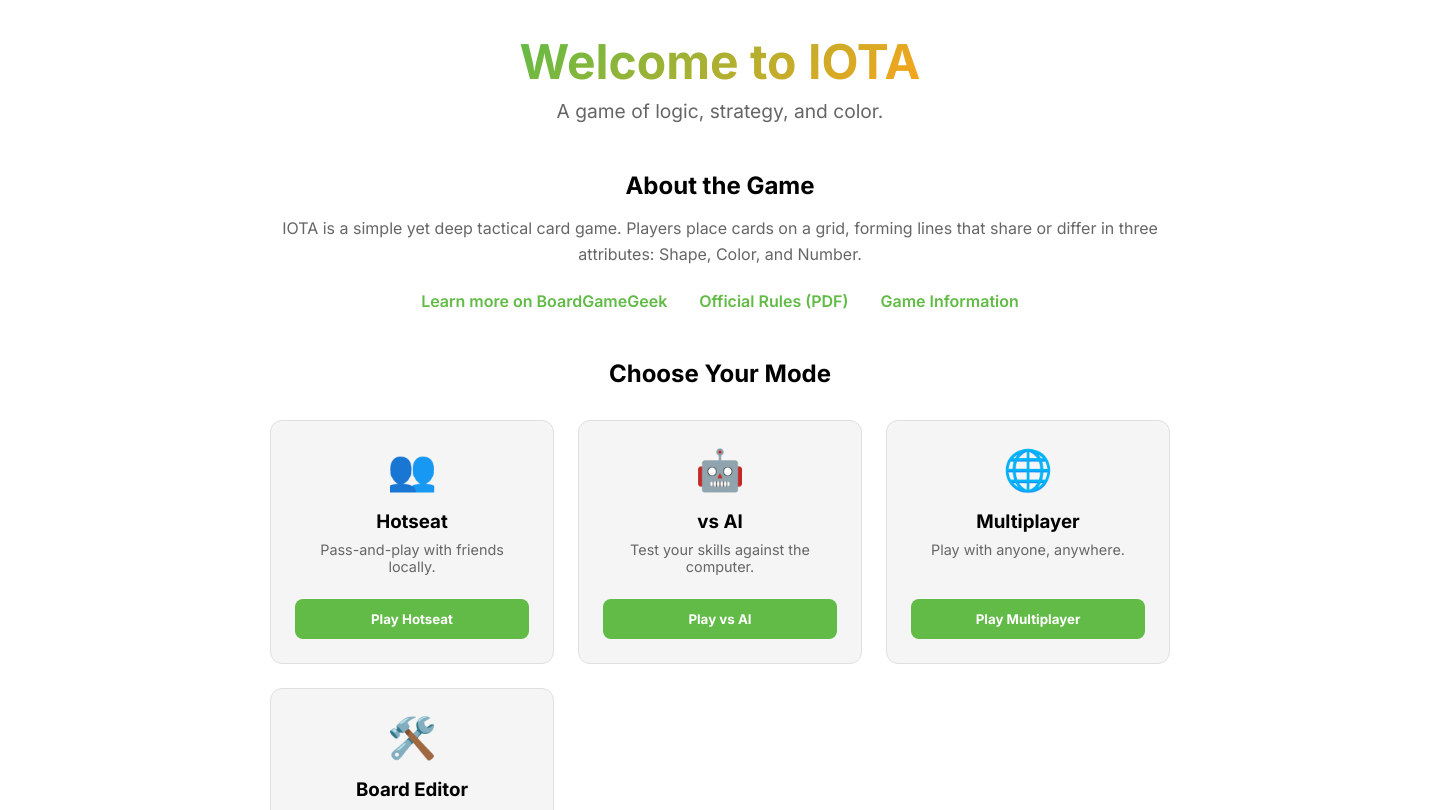
App integration - selection › selects a card after starting a game and clicking a card in hand
On Welcome page, click "Play Hotseat"
Click the button "Play Hotseat" at (412, 619), box top-left (295, 599), bottom-right (529, 639)
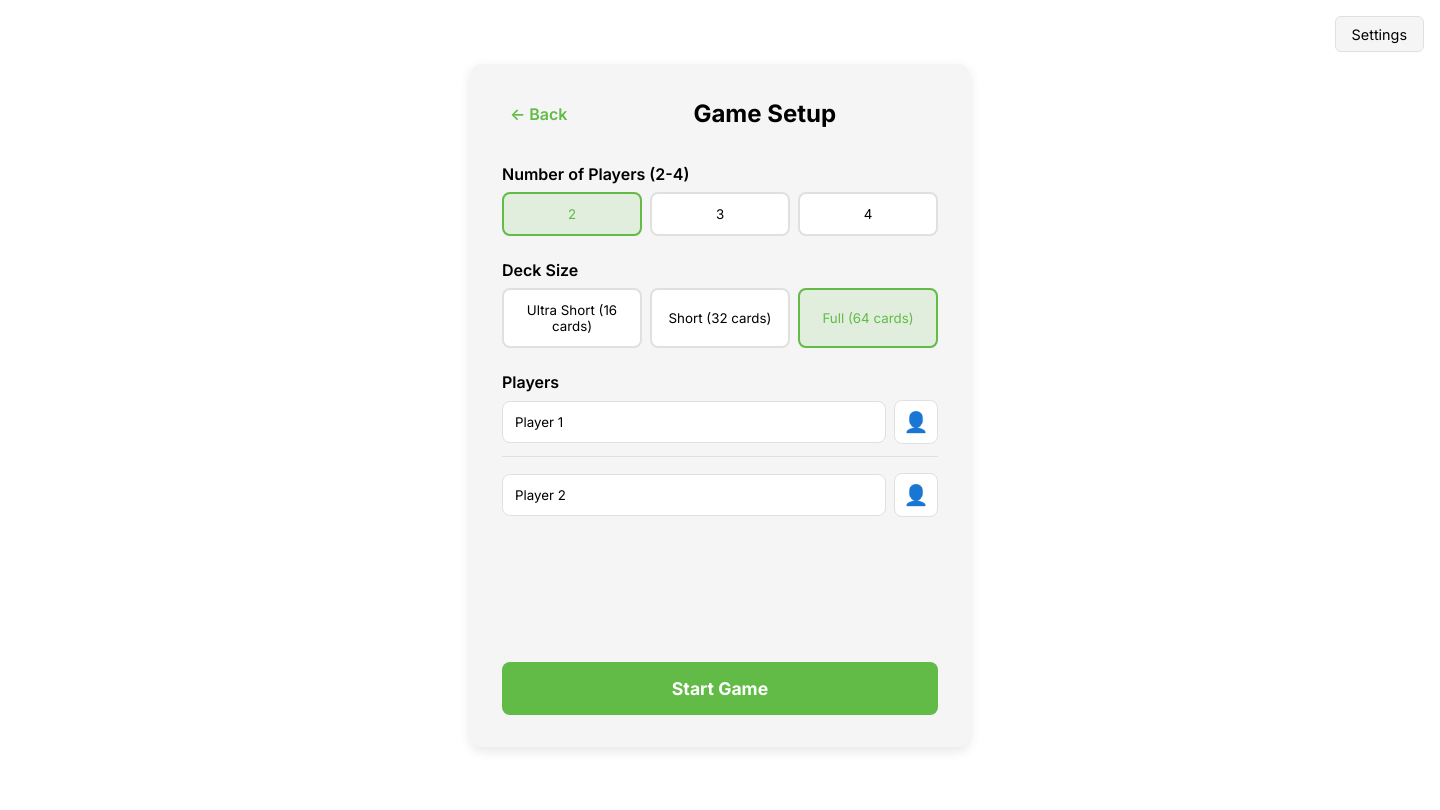
On Setup page, click "Start Game"
Click the button "Start Game" at (720, 688), box top-left (502, 662), bottom-right (938, 714)
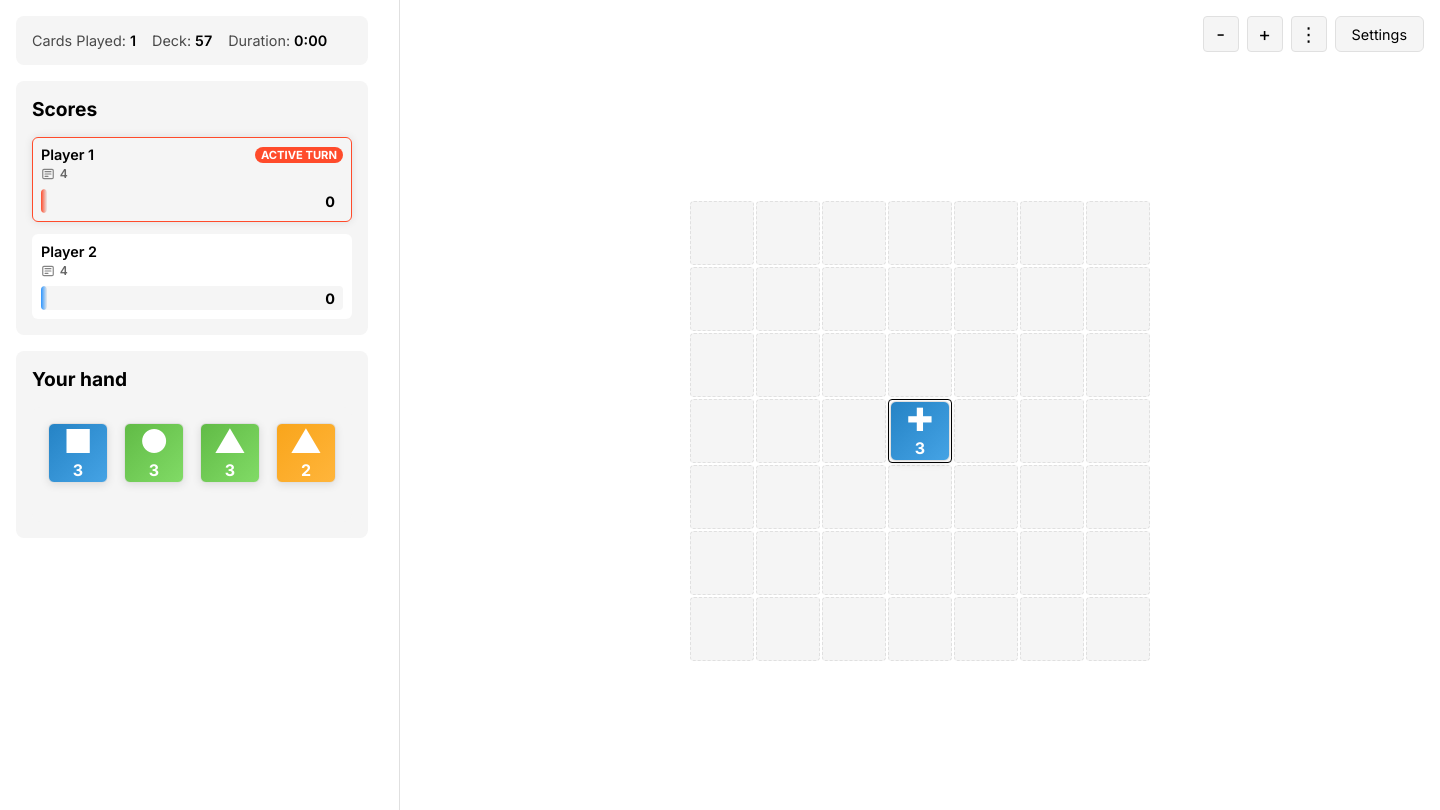
Wait for player's hand to appear and click first card
Click the element with test id "hand-card-0" at (78, 453), box top-left (48, 423), bottom-right (108, 483)
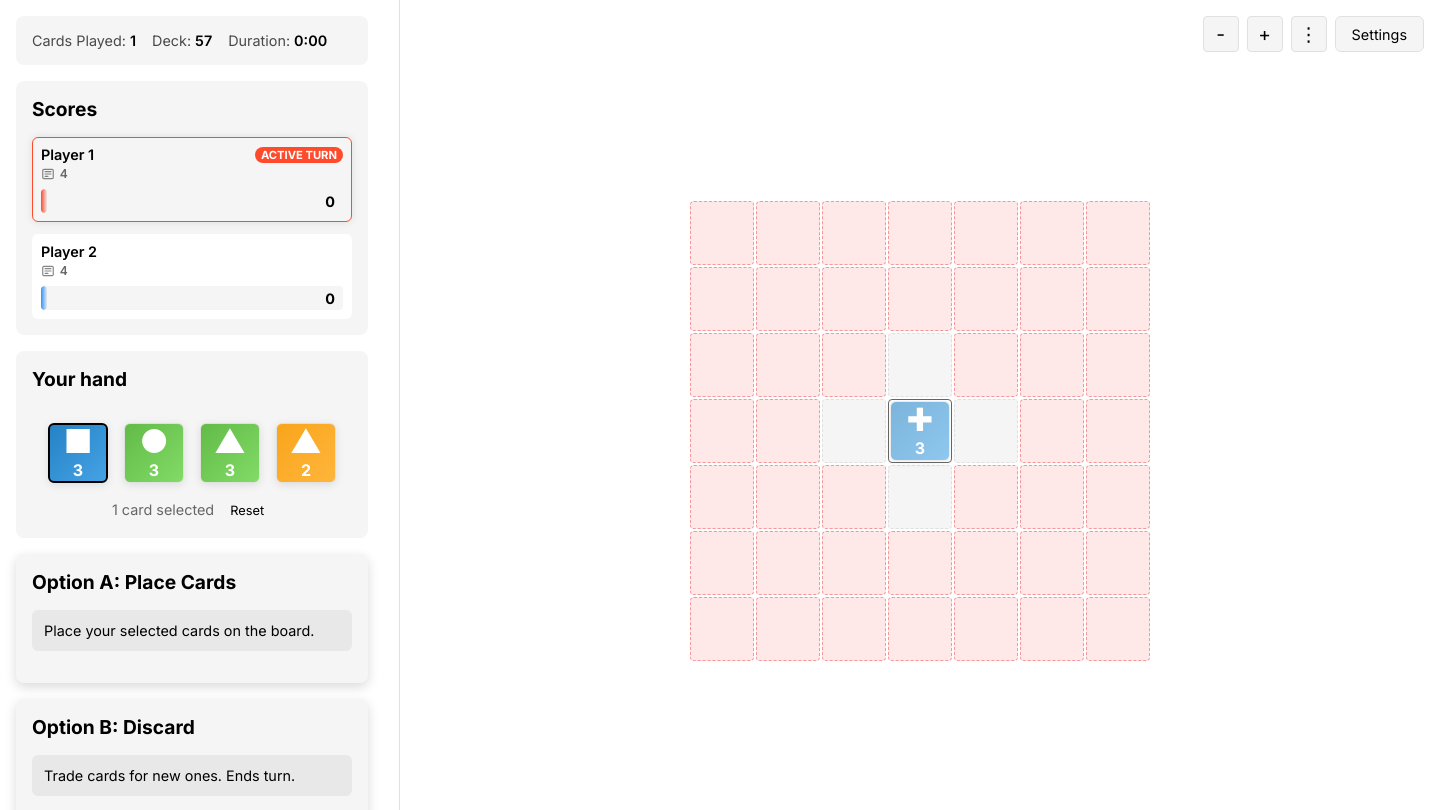
Result: the text "1 card selected" is shown at top-left (112, 501), bottom-right (214, 518)
